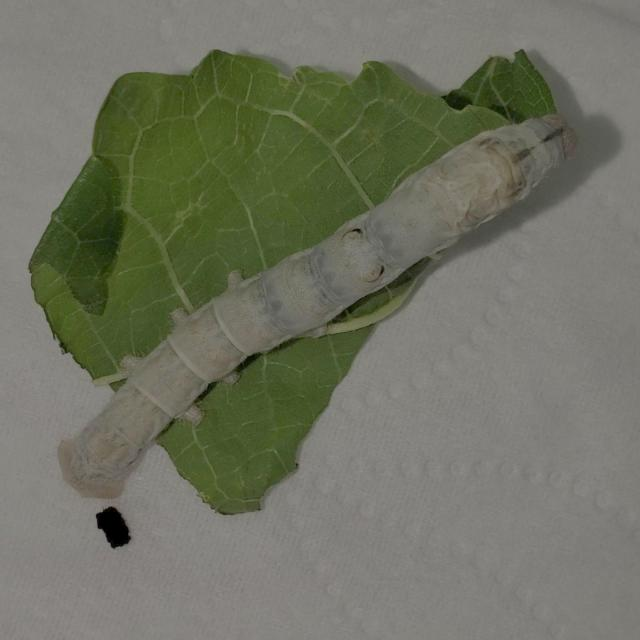Healthy: (46, 64, 590, 528)
